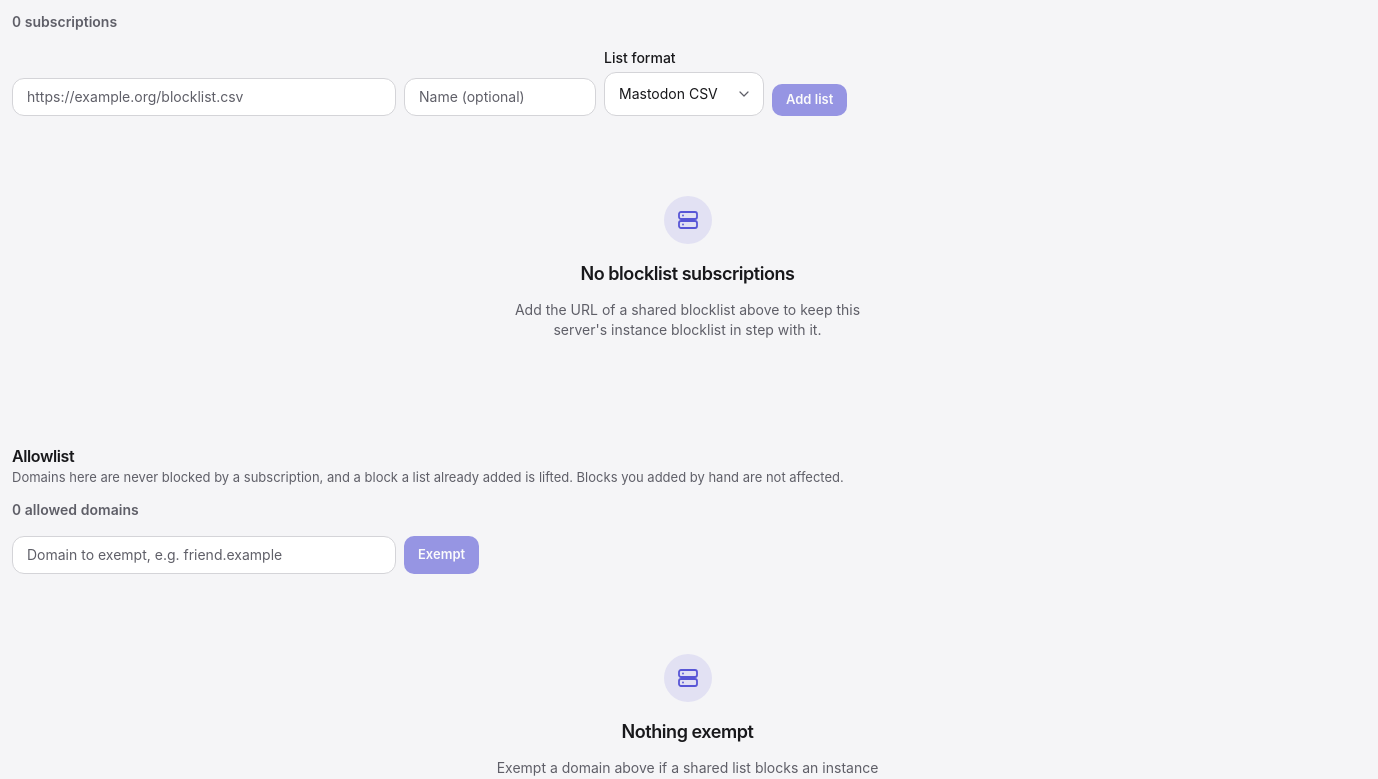
AdminBlocklistSubscriptionsView › adds a subscription with the chosen format, then reloads
Expected: the text "No blocklist subscriptions" is shown, top-left (580, 260), bottom-right (794, 288)
Step 1. Type " https://lists.example/a.json " into the field named "Blocklist URL" → point(204, 97), box top-left (12, 78), bottom-right (396, 116)
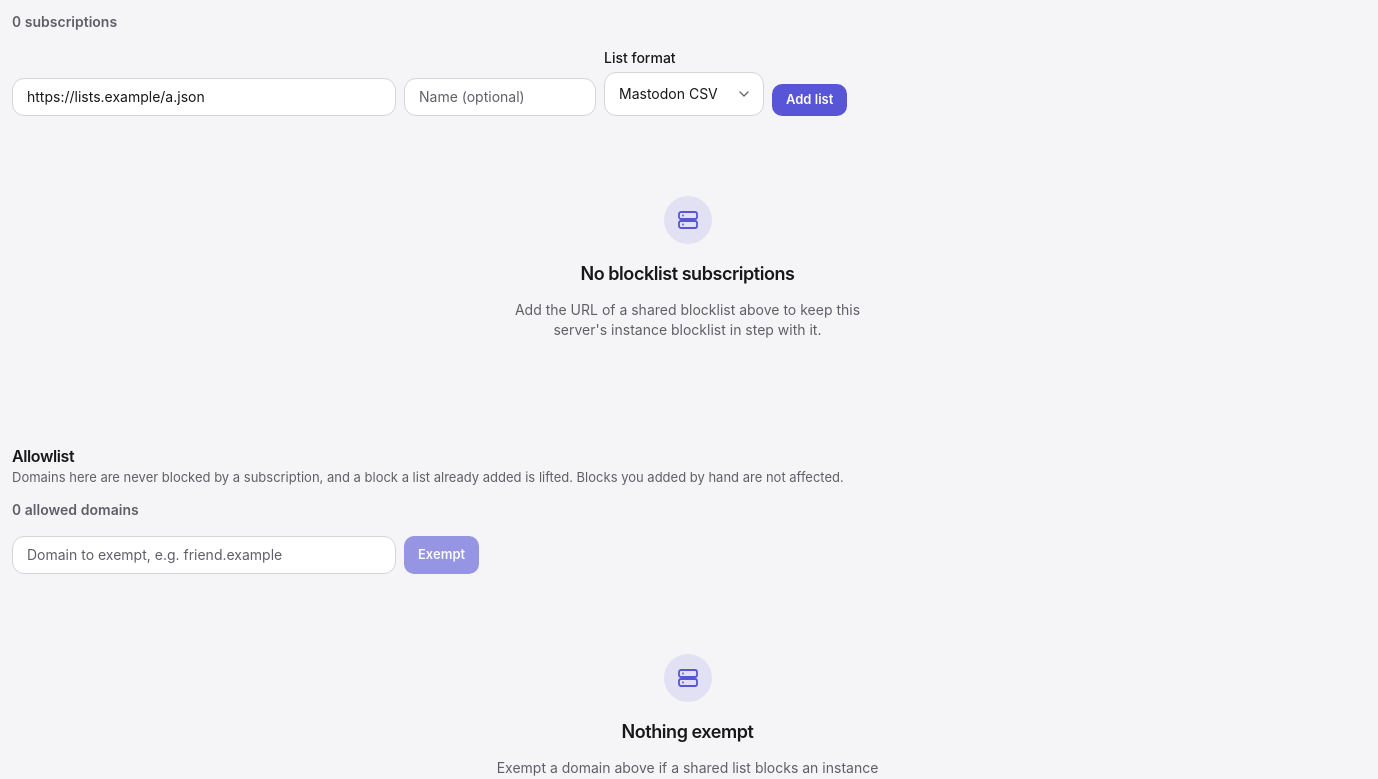
Step 2. Select "JSON" in the dropdown labelled "List format" → point(684, 94), box top-left (604, 72), bottom-right (764, 116)
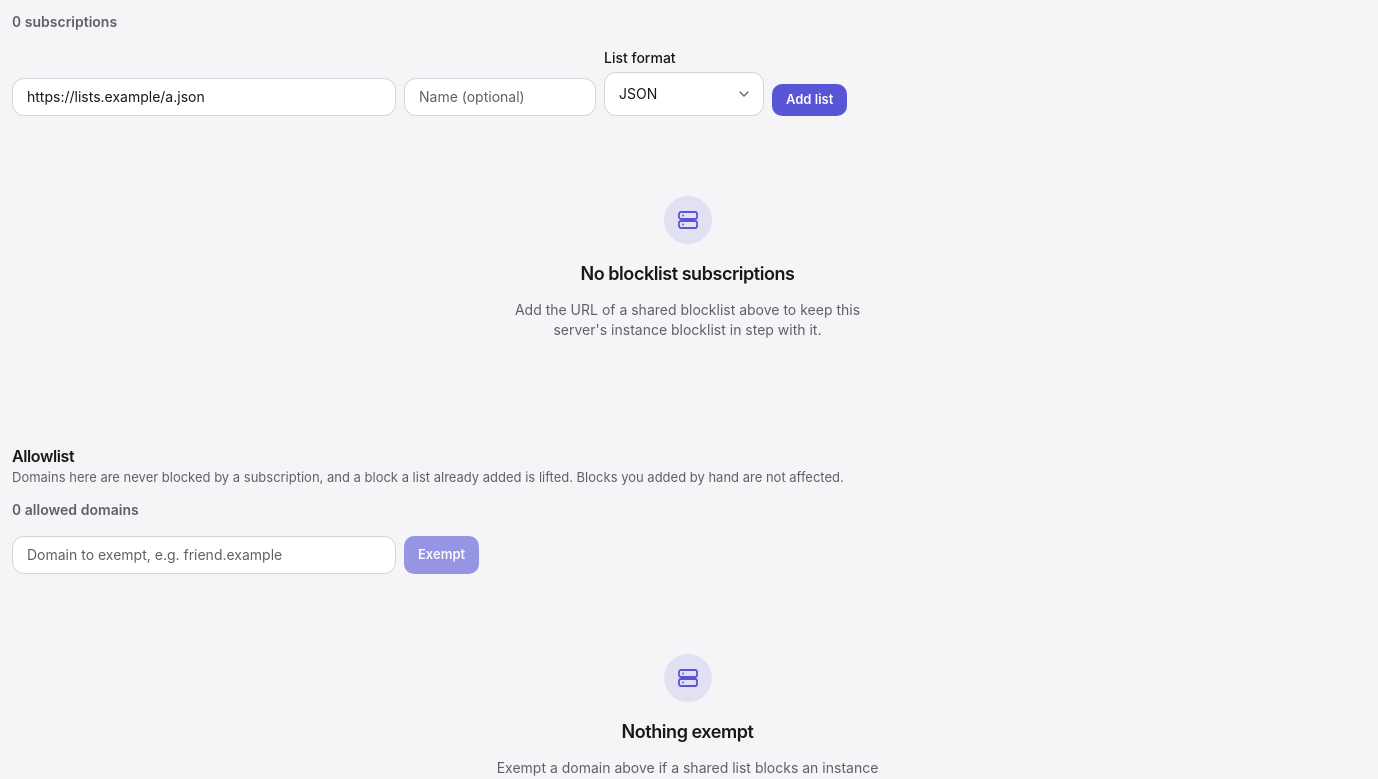
Step 3. Click the button "Add list" → point(810, 100), box top-left (772, 84), bottom-right (847, 116)
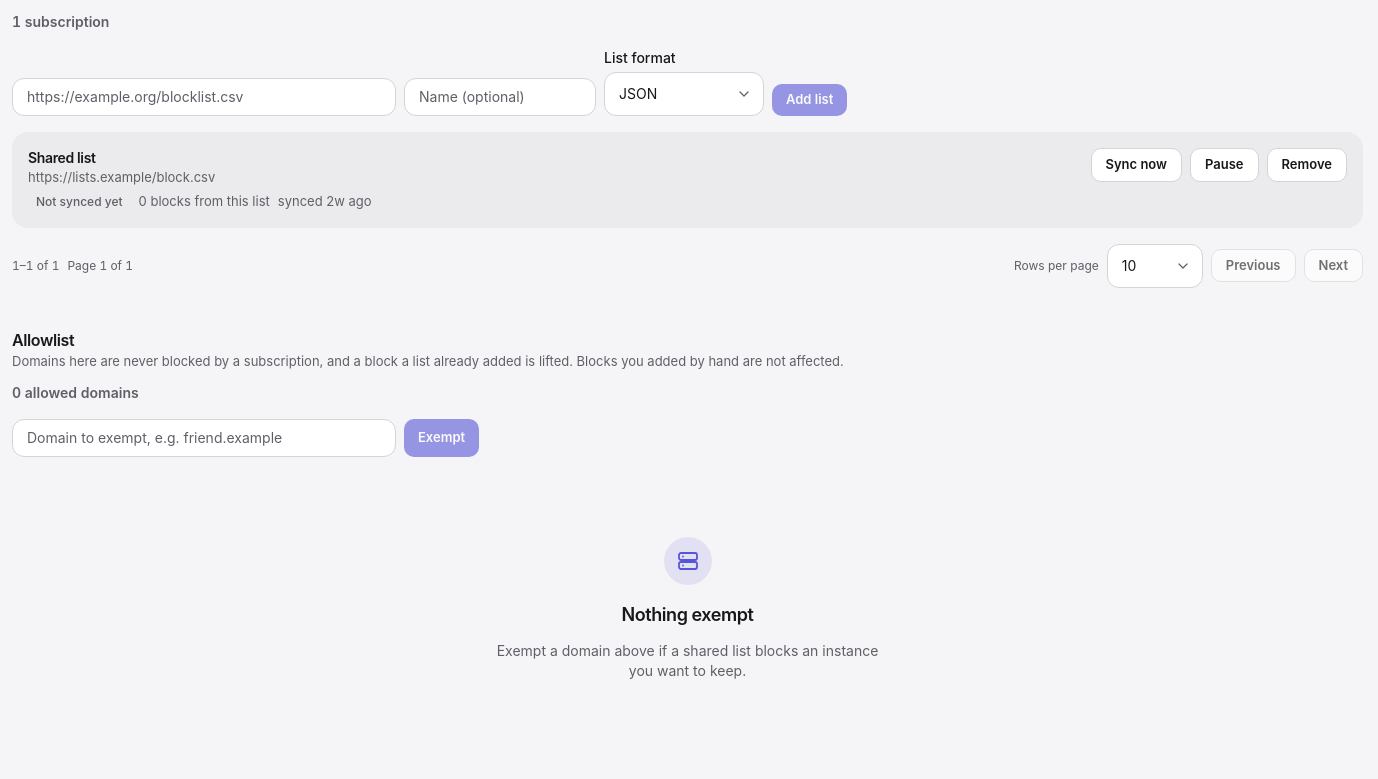
Now the text "Shared list" is shown, box top-left (28, 149), bottom-right (96, 166)
